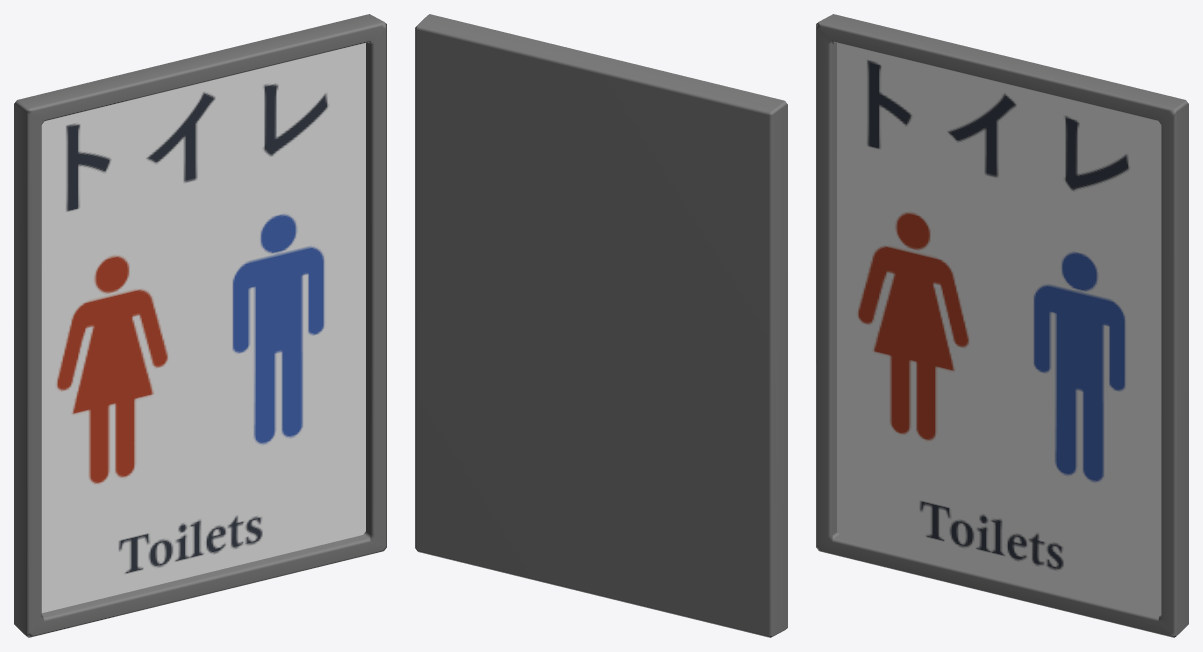
The model's file is SM_sign_toilet.fbx.
The picture shows the model from 3 angles, left to right: view 1: azimuth 30°, elevation 25°; view 2: azimuth 150°, elevation 25°; view 3: azimuth 330°, elevation 25°; orthographic projection.
Parts seen in each view (by area): view 1: sign_roomname11; view 2: sign_roomname11; view 3: sign_roomname11.
Part boxes in pixels (x1,y1,x2,y2): sign_roomname11: (14,14,386,637); sign_roomname11: (415,14,787,637); sign_roomname11: (816,14,1188,637).
Bounding box in the file's own units: 17.21 × 24.12 × 1.34.
Materials: 2 (1 with a texture image).
